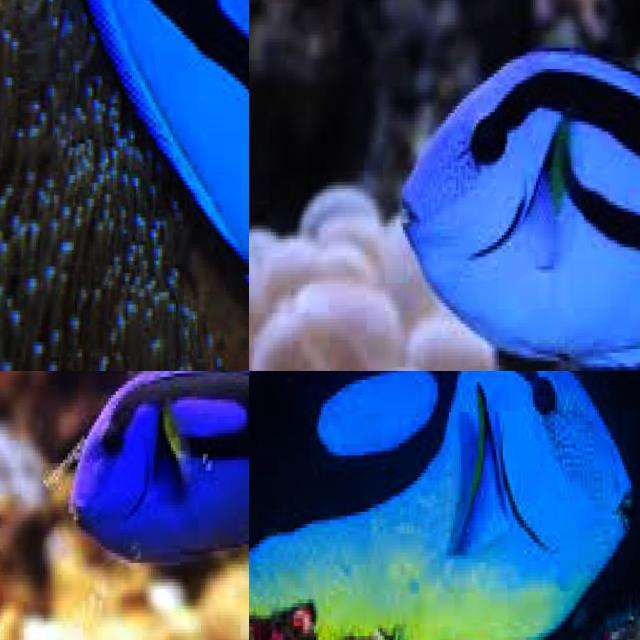BlueTang: (249, 371, 640, 640), (388, 0, 640, 371), (0, 0, 249, 371), (53, 371, 249, 596)
